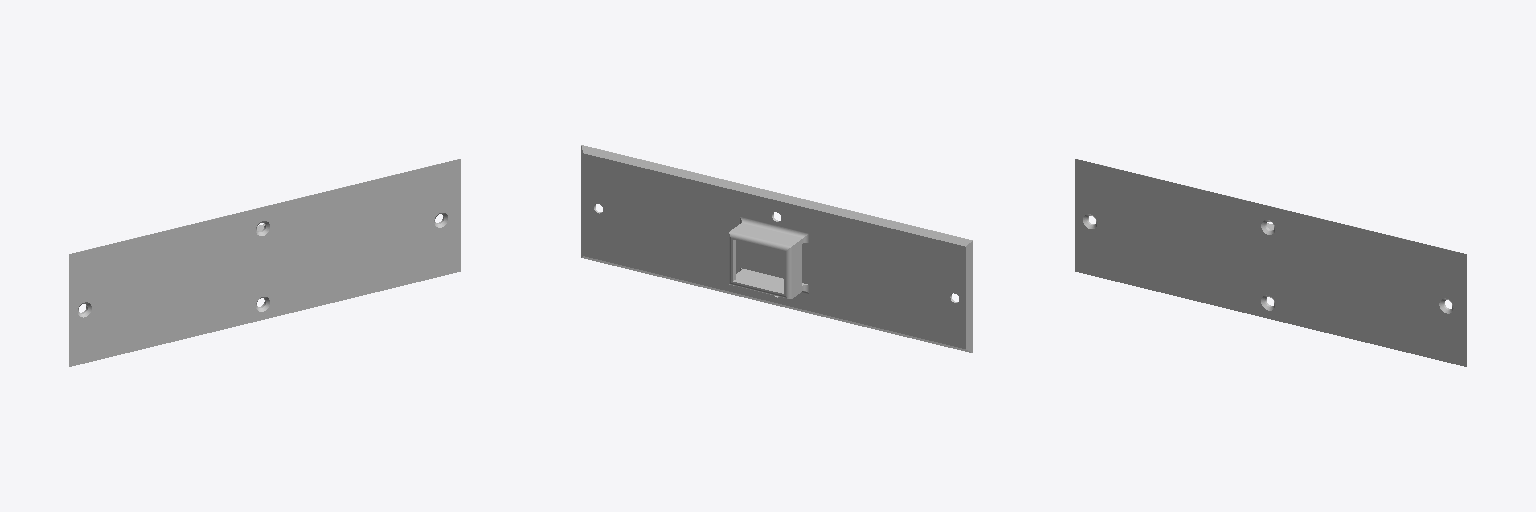
Rendered from Tampa entrada de amostra.obj.
3 renders of one model, left to right at view 1: azimuth 30°, elevation 25°; view 2: azimuth 150°, elevation 25°; view 3: azimuth 330°, elevation 25°, orthographic.
Bounding box in the file's own units: 152 × 41.8 × 12.6.